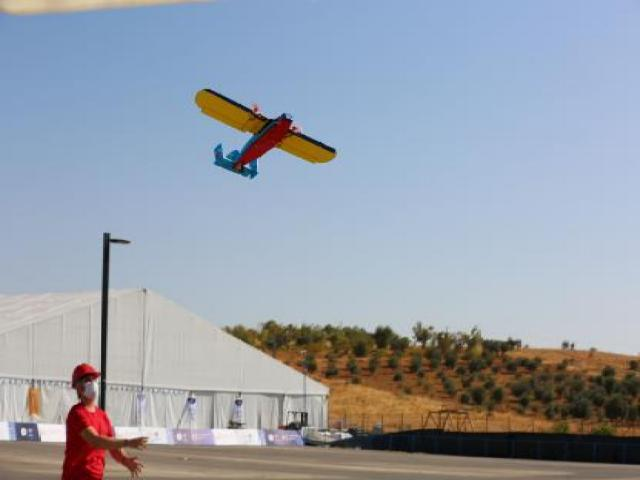uav: (188, 86, 338, 177)
